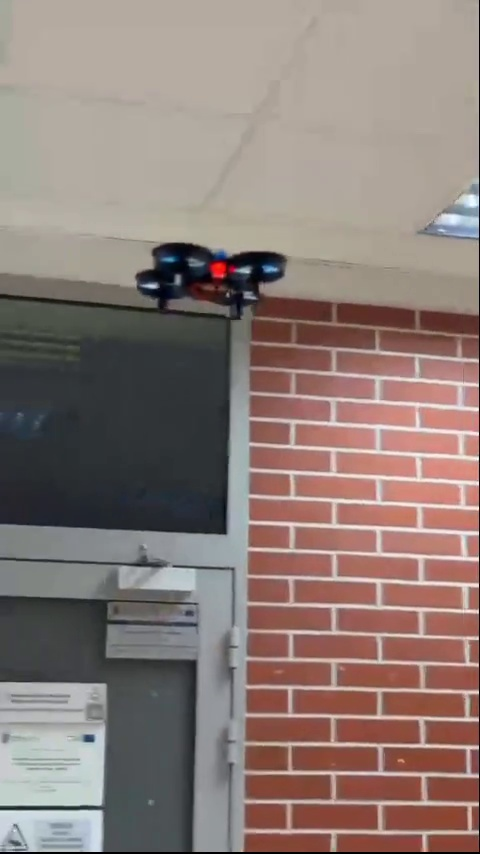drone: (132, 242, 288, 326)
